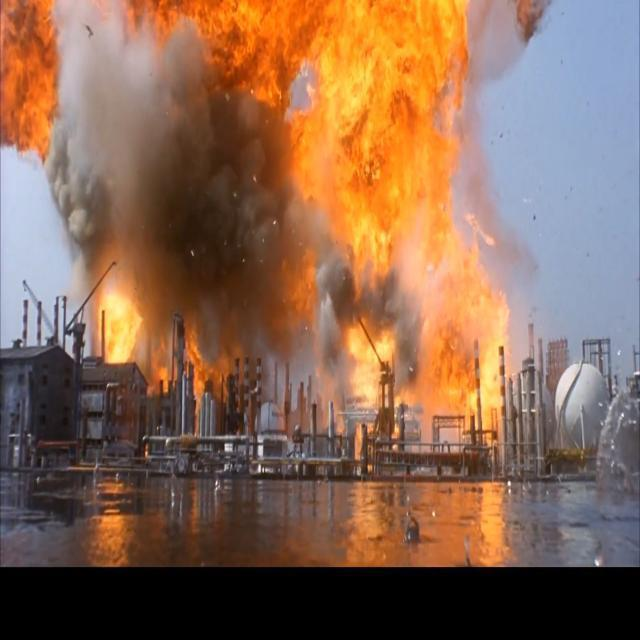fire: (0, 0, 512, 454)
